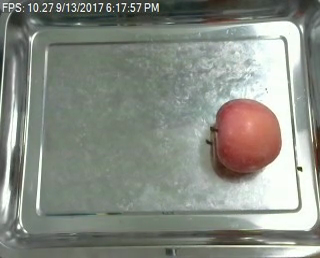Apple: (210, 97, 286, 175)
